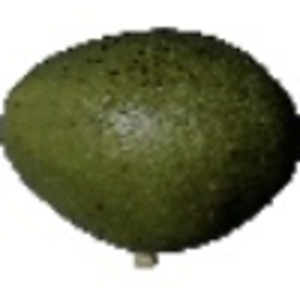abacate: (2, 25, 300, 250)
